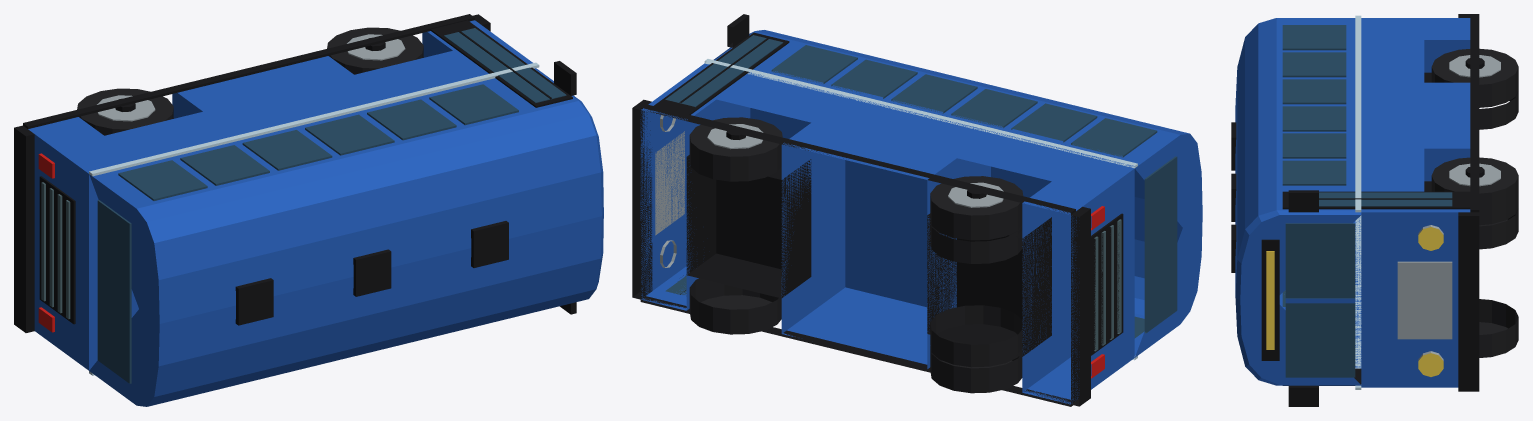
3 renders of one model, left to right at view 1: azimuth 30°, elevation 25°; view 2: azimuth 150°, elevation 25°; view 3: azimuth 270°, elevation 25°, orthographic. The views are drawn at different scales.
Visible parts, largest first — view 1: default_upper, default_lower_back, default_lower_mid, default_rear_window, default_bumper_rear, default_side1_-3.80_0.95_black, default_lower_arch_f, default_lower_arch_r, default_side1_-3.80_2.90_cc2, default_rear1, default_front1, default_engine_grille (+17 smaller); view 2: default_lower_mid, default_upper, default_arch_liner2.15, default_lower_back, default_arch_liner-2.1, default_lower_arch_f, default_lower_front, default_lower_arch_r, default_rear_window, default_front1, default_rear1, default_front-1 (+21 smaller); view 3: default_upper, default_lower_front, default_windscreen, default_lower_mid, default_grille, default_bumper, default_front1, default_rear1, default_lower_back, default_lower_arch_f, default_lower_arch_r, default_front-1 (+22 smaller).
Boxes of the visible parts, left/top/right/bottom form: default_upper: left=89, top=68, right=603, bottom=406; default_lower_back: left=28, top=117, right=138, bottom=370; default_lower_mid: left=172, top=56, right=386, bottom=135; default_rear_window: left=97, top=200, right=131, bottom=383; default_bumper_rear: left=14, top=125, right=34, bottom=332; default_side1_-3.80_0.95_black: left=23, top=14, right=474, bottom=128; default_lower_arch_f: left=354, top=51, right=485, bottom=98; default_lower_arch_r: left=104, top=112, right=235, bottom=159; default_side1_-3.80_2.90_cc2: left=89, top=62, right=539, bottom=176; default_rear1: left=77, top=88, right=173, bottom=135; default_front1: left=327, top=27, right=423, bottom=74; default_engine_grille: left=39, top=176, right=75, bottom=324; default_lower_mid: left=781, top=98, right=990, bottom=368; default_upper: left=709, top=30, right=1202, bottom=357; default_arch_liner2.15: left=686, top=155, right=811, bottom=298; default_lower_back: left=1022, top=156, right=1134, bottom=404; default_arch_liner-2.1: left=927, top=213, right=1051, bottom=356; default_lower_arch_f: left=716, top=74, right=845, bottom=311; default_lower_front: left=640, top=63, right=749, bottom=310; default_lower_arch_r: left=957, top=133, right=1085, bottom=370; default_rear_window: left=1144, top=156, right=1177, bottom=333; default_front1: left=689, top=117, right=782, bottom=181; default_rear1: left=930, top=176, right=1023, bottom=240; default_front-1: left=689, top=278, right=781, bottom=334; default_upper: left=1235, top=18, right=1361, bottom=385; default_lower_front: left=1361, top=209, right=1470, bottom=387; default_windscreen: left=1285, top=223, right=1355, bottom=377; default_lower_mid: left=1361, top=82, right=1470, bottom=181; default_grille: left=1397, top=261, right=1452, bottom=339; default_bumper: left=1458, top=212, right=1479, bottom=391; default_front1: left=1431, top=157, right=1518, bottom=216; default_rear1: left=1431, top=48, right=1518, bottom=107; default_lower_back: left=1361, top=18, right=1470, bottom=72; default_lower_arch_f: left=1361, top=148, right=1424, bottom=191; default_lower_arch_r: left=1361, top=40, right=1424, bottom=82; default_front-1: left=1479, top=299, right=1518, bottom=357.
Size of the model in its own units: 7.9 by 3.9 by 4.75.
